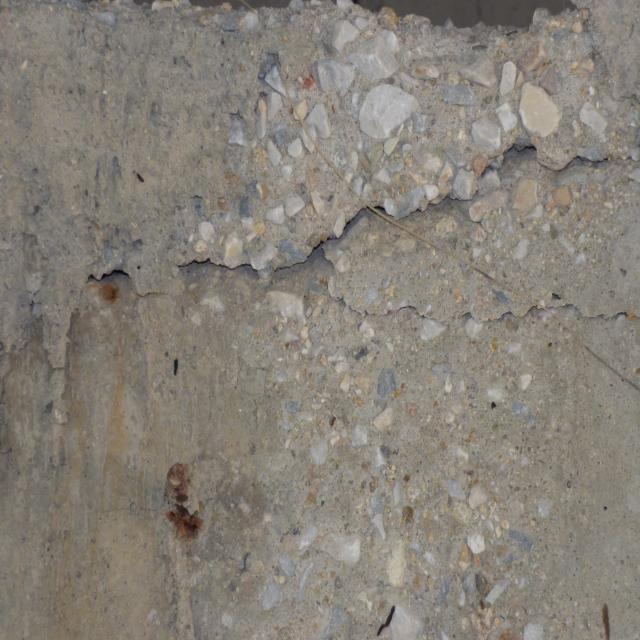corrosion: (64, 274, 159, 622), (147, 453, 229, 555), (593, 596, 621, 640), (373, 602, 398, 638)
